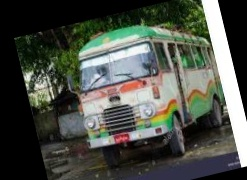bus: (64, 7, 233, 175)
